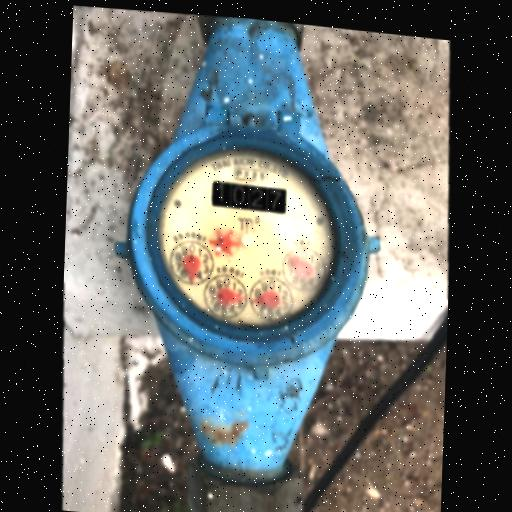0: (231, 184, 249, 209)
1: (211, 181, 230, 207)
2: (249, 185, 267, 211)
7: (267, 187, 286, 213)
border_water_meter_number: (211, 180, 286, 214)
